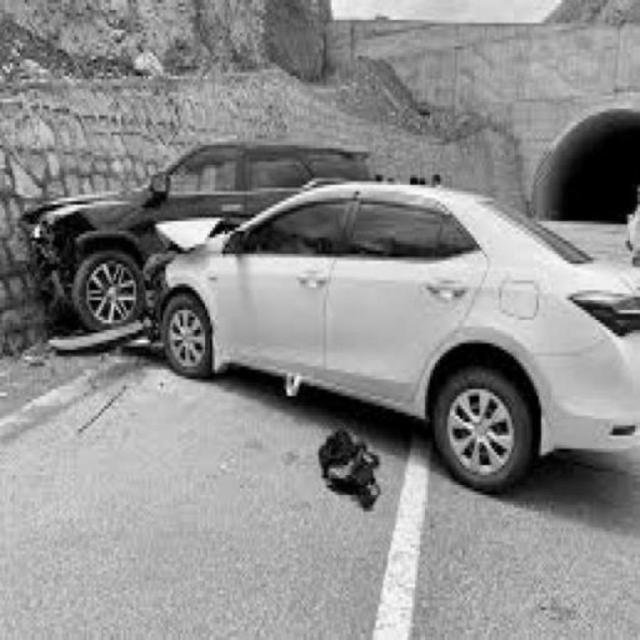accident: (42, 135, 640, 501)
